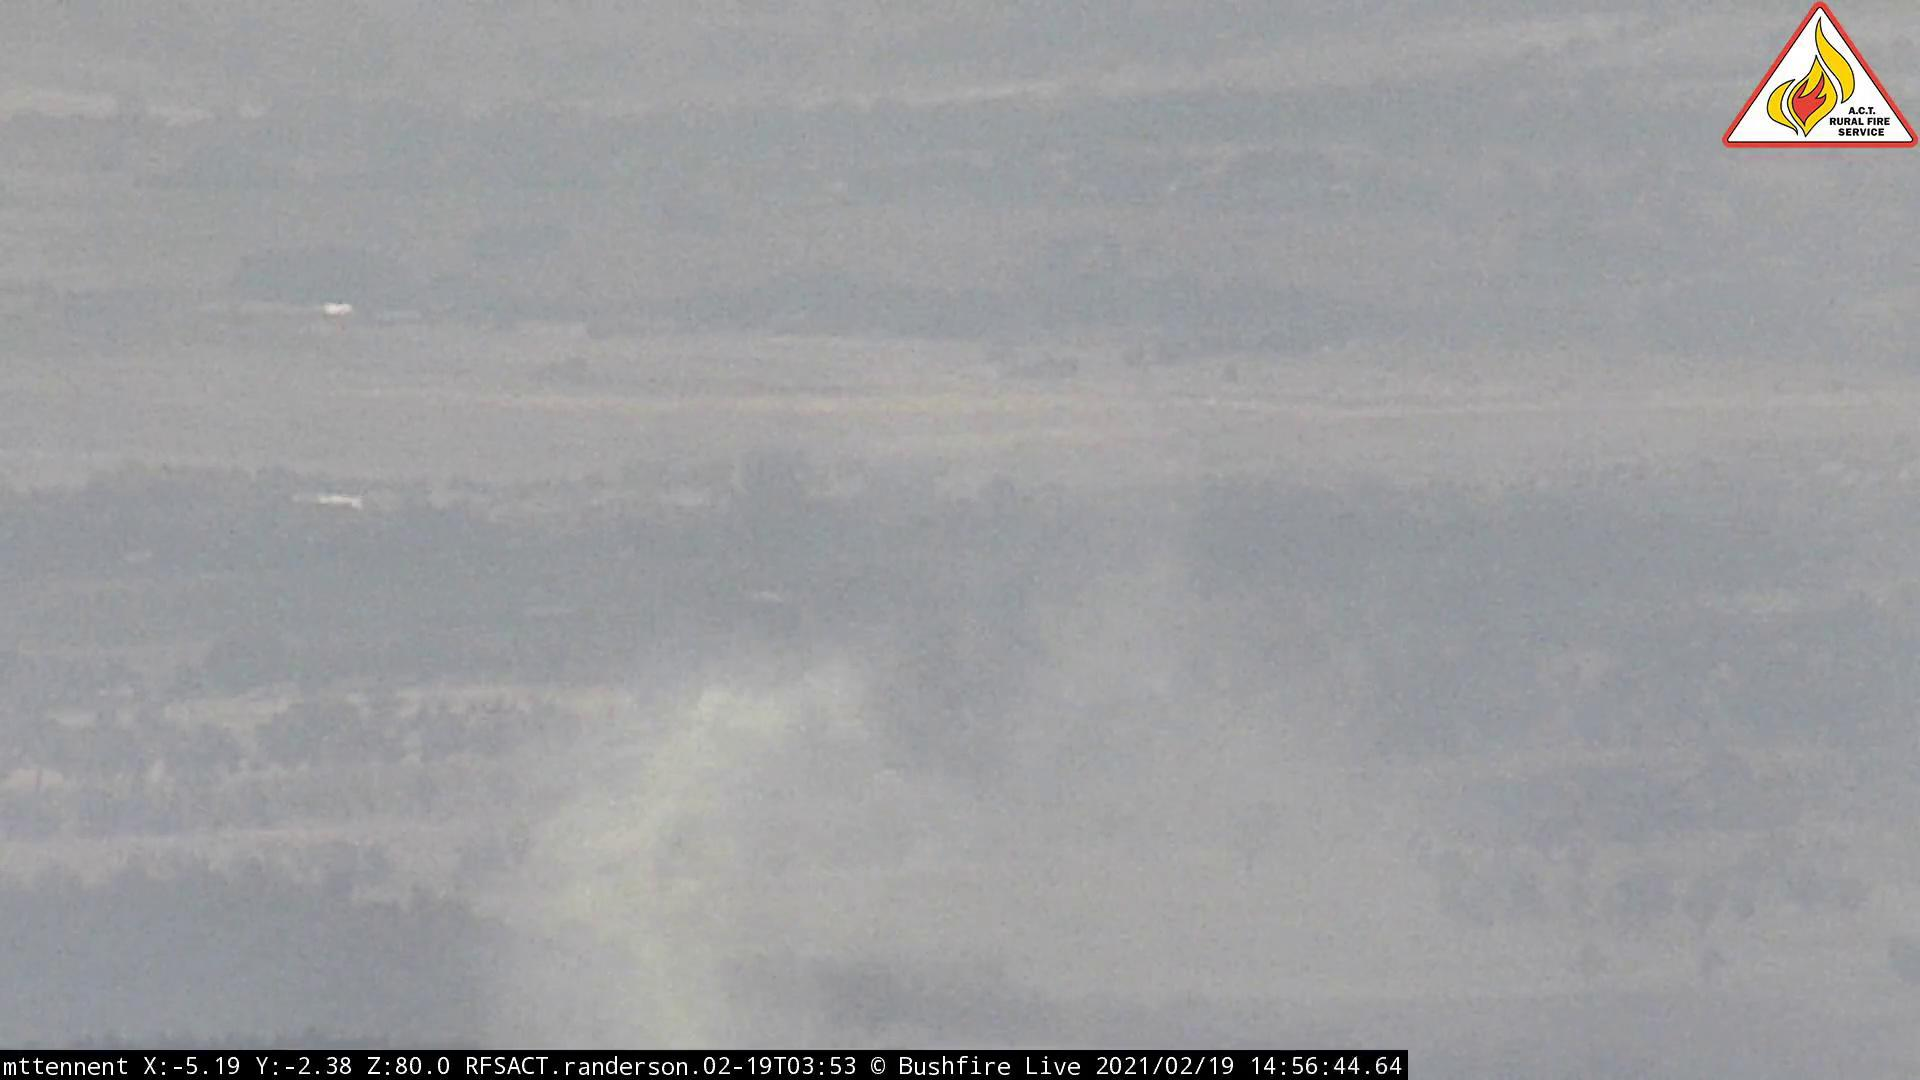Smoke: (454, 524, 1491, 1048)
